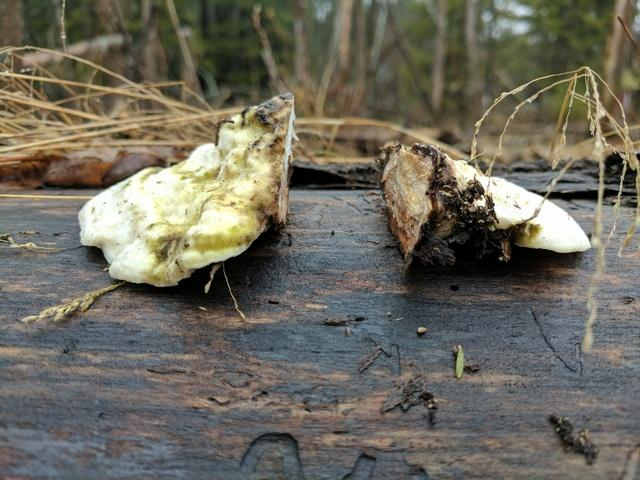Non-edible Mushroom: (76, 90, 299, 291), (375, 139, 592, 273)
